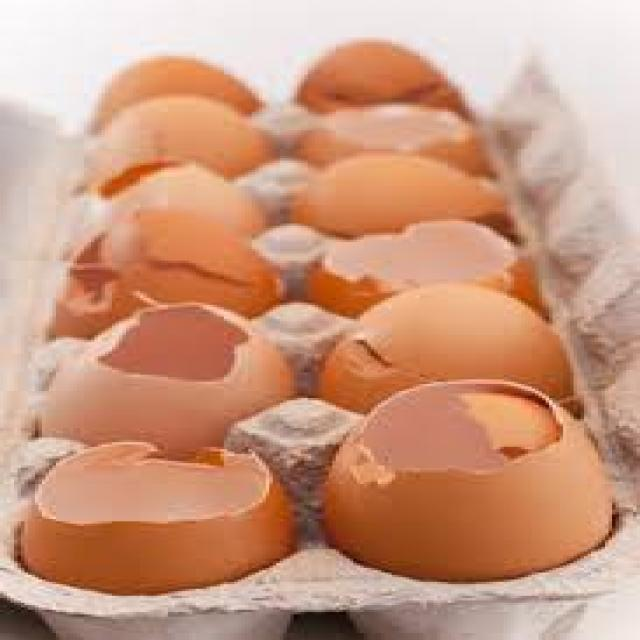biodegradable: (313, 370, 620, 580), (4, 426, 318, 598), (22, 296, 294, 462), (292, 270, 604, 410), (48, 212, 294, 332), (304, 206, 543, 304)
